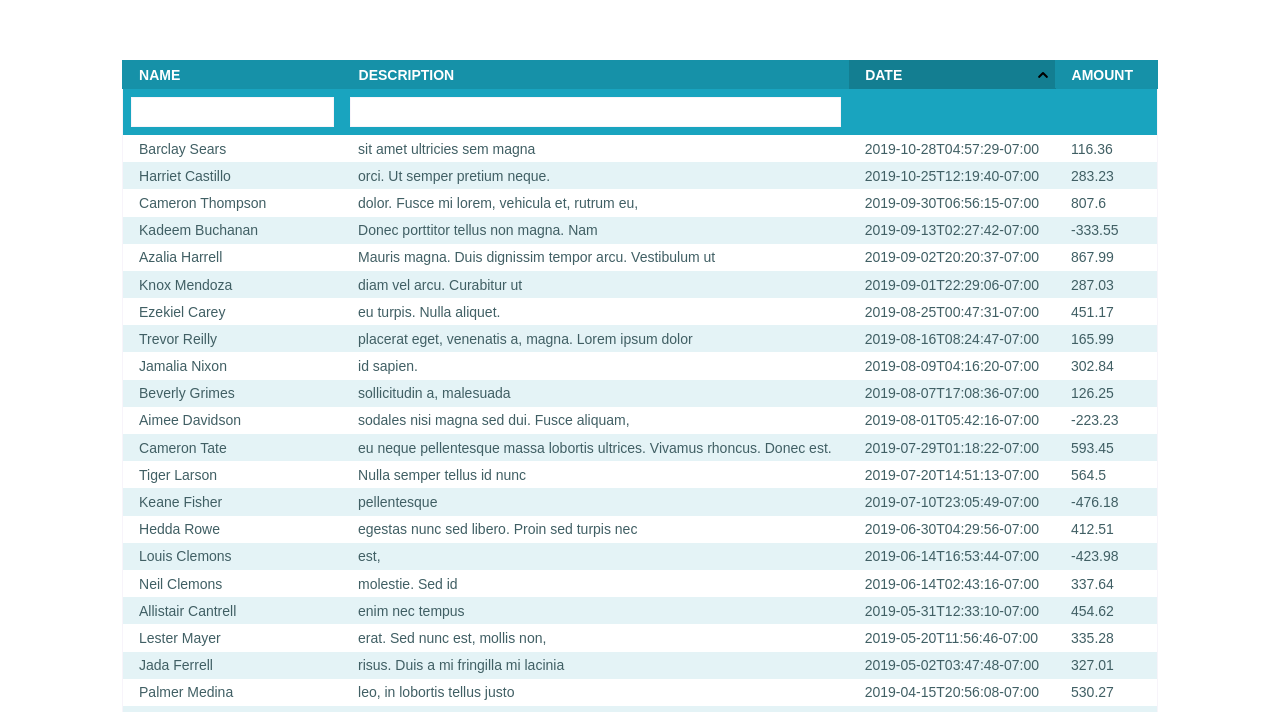
Tests sortability › Sorts table by Amount in ascending order when user clicks on the Amount column header
This screenshot has width=1280, height=712.
Click the column heading "Amount": (1106, 75) [1055,61,1157,89]
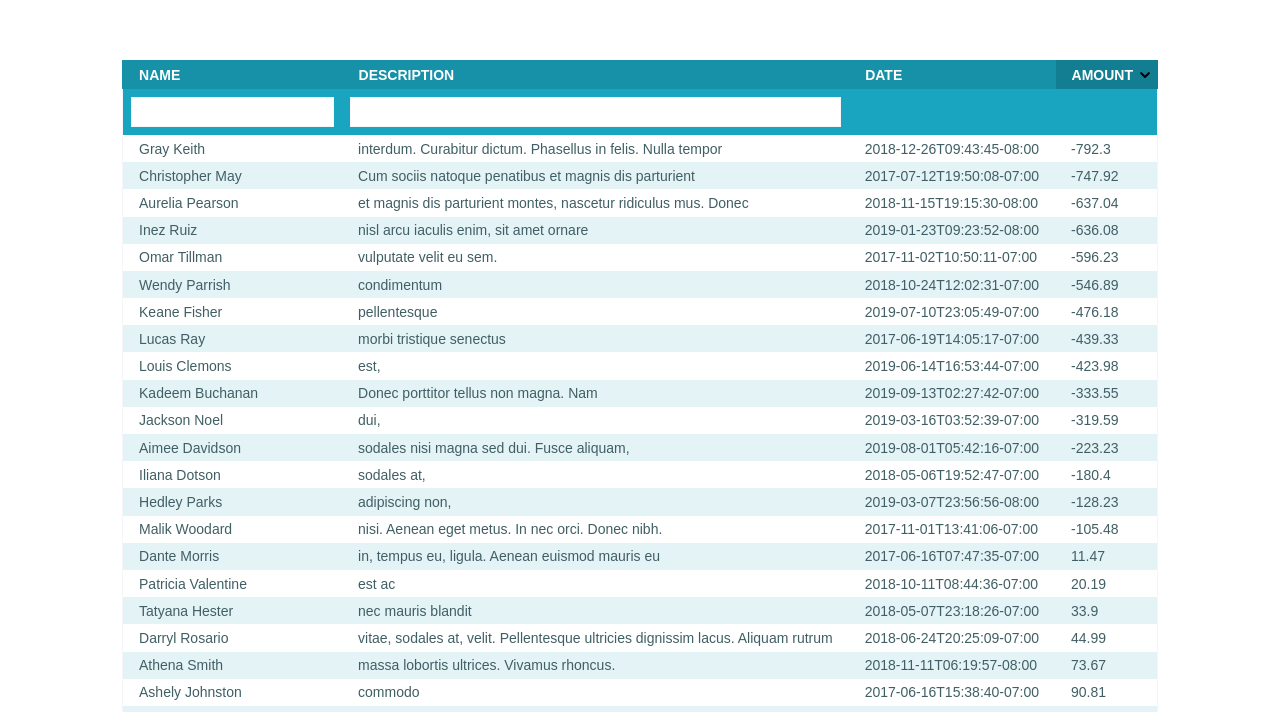
Expected: the text "-792.3" is shown, [1071,141,1111,157]
